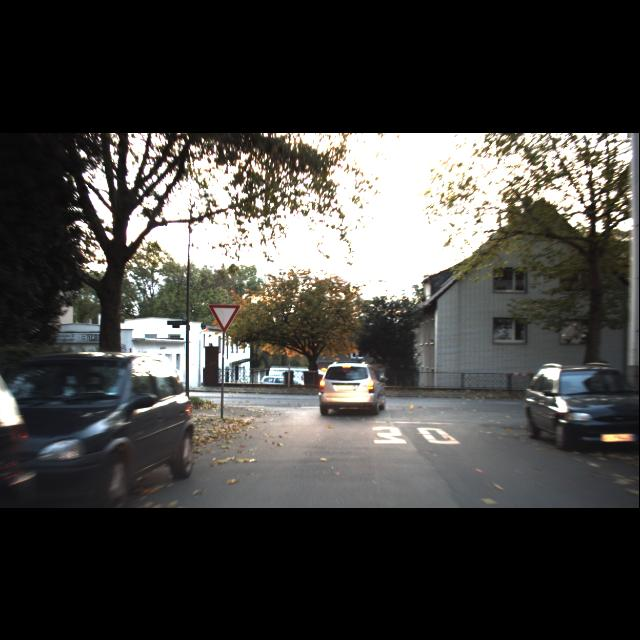other: (208, 304, 242, 332)
